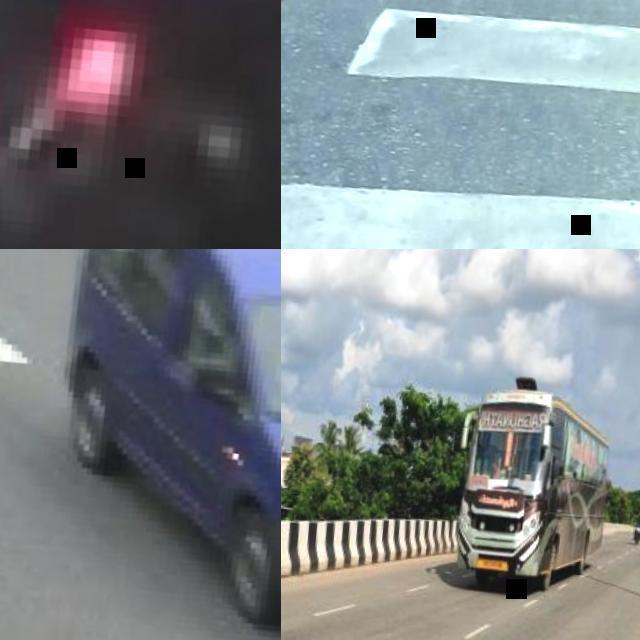car: (70, 245, 280, 611), (453, 386, 605, 595)
